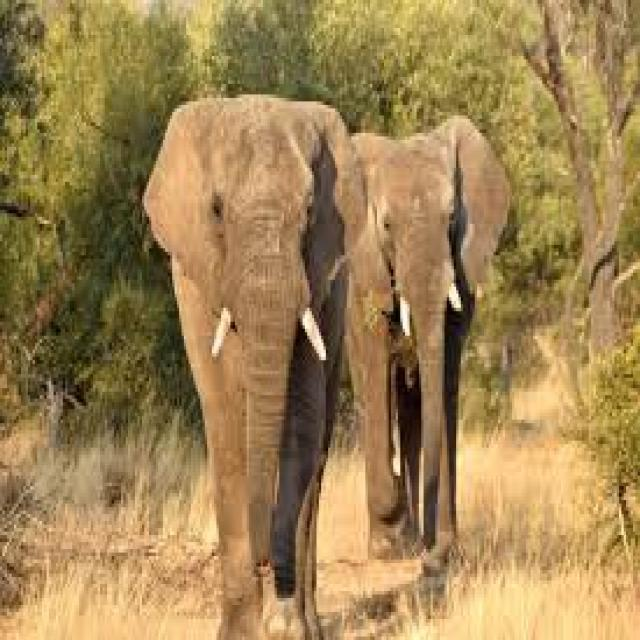Elephant: (140, 91, 368, 636), (344, 112, 510, 570)
